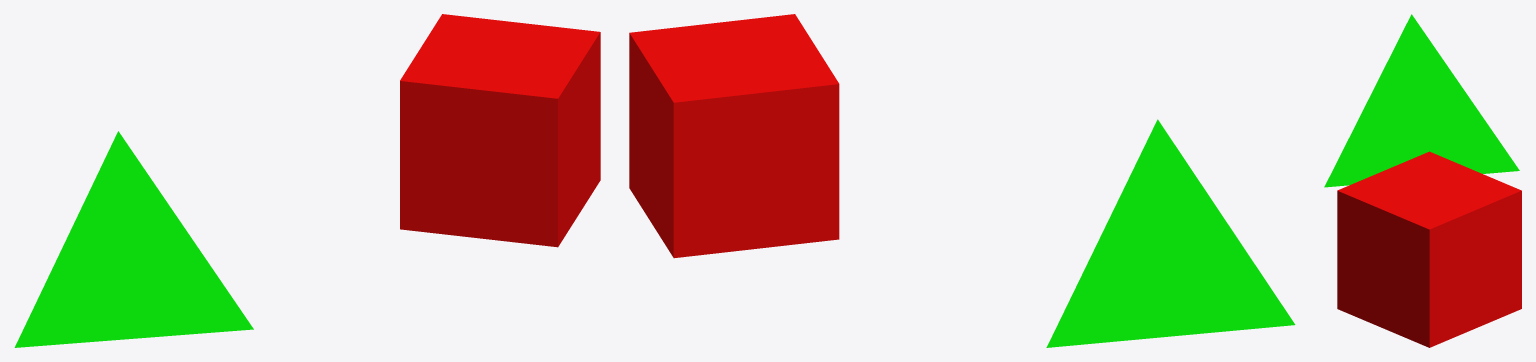
The model's file is Marker01.FBX.
The picture shows the model from 3 angles, left to right: view 1: azimuth 30°, elevation 25°; view 2: azimuth 150°, elevation 25°; view 3: azimuth 270°, elevation 25°; orthographic projection. The views are drawn at different scales.
Parts seen in each view (by area): view 1: Box001; view 2: Box001; view 3: Box001.
Part boxes in pixels (x1,y1,x2,y2): Box001: (14, 14, 600, 347); Box001: (629, 14, 1295, 347); Box001: (1324, 14, 1521, 347).
Bounding box in the file's own units: 43.07 × 15.14 × 12.
